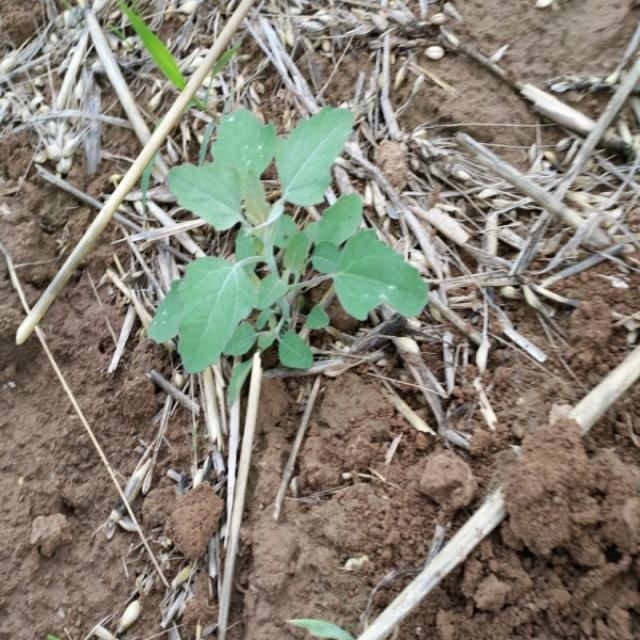goosefoots: (126, 108, 429, 376)
